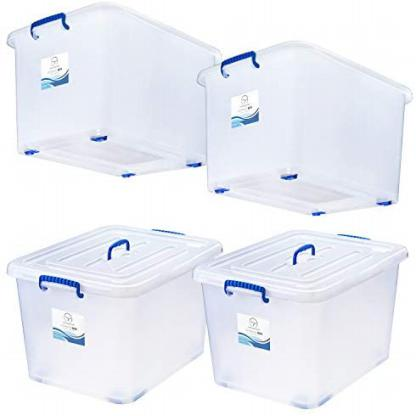plastic_box: (2, 197, 230, 412), (191, 22, 415, 227)
